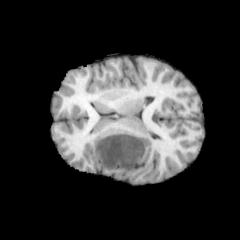glioma: (94, 132, 152, 170)
